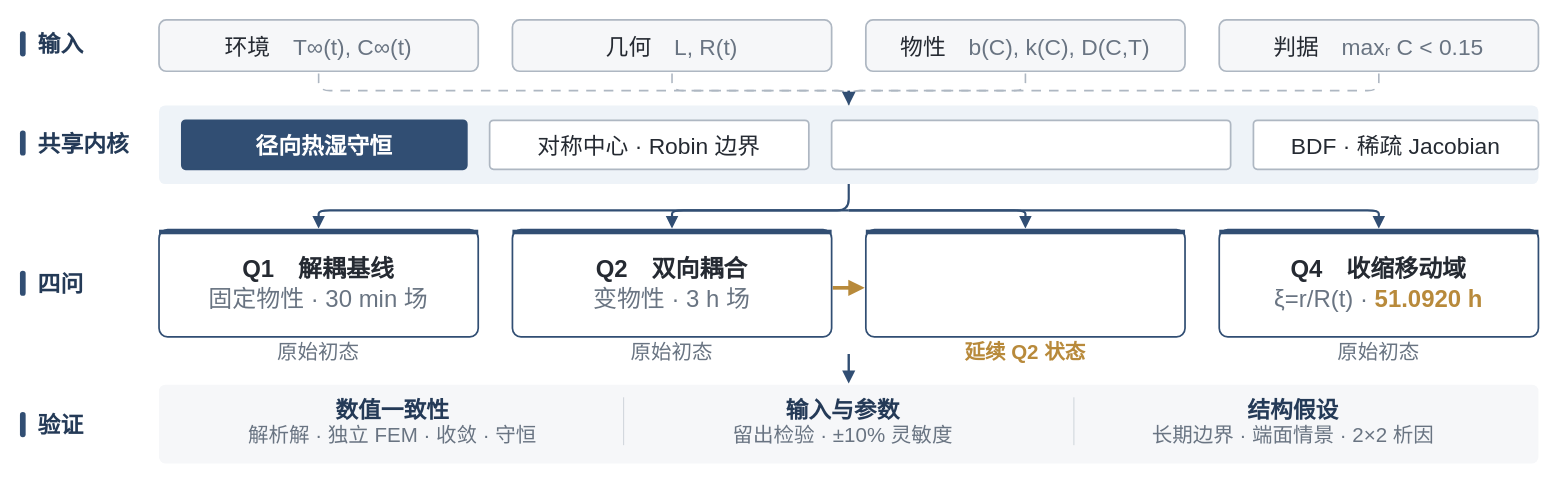
Some shapes in this 1558 by 483 pixel diagram are drawn without their labels. Here are the shapes that lost their labels. From the top down, the box of each, then its label:
(830, 119, 1231, 170): 真实表面 · 环形有限体积
(864, 228, 1185, 337): Q3 全域事件 max C=0.15 · 57.4740 h
